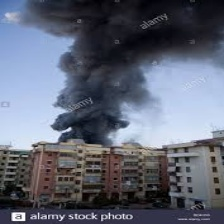smoke: (23, 1, 224, 140)
